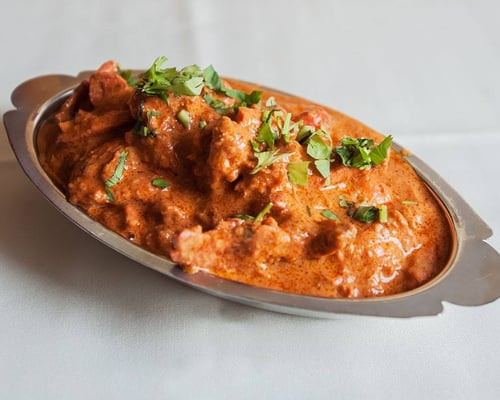sandwich: (25, 53, 467, 300)
